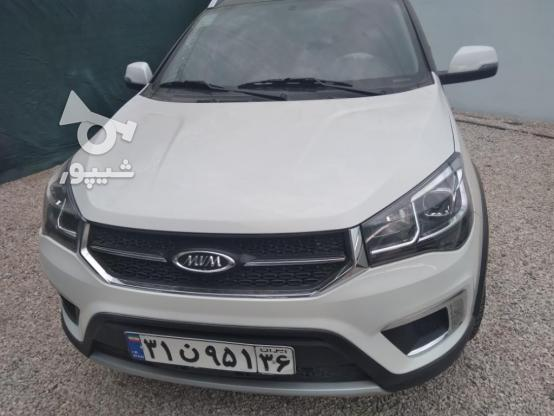car: (126, 331, 300, 378)
